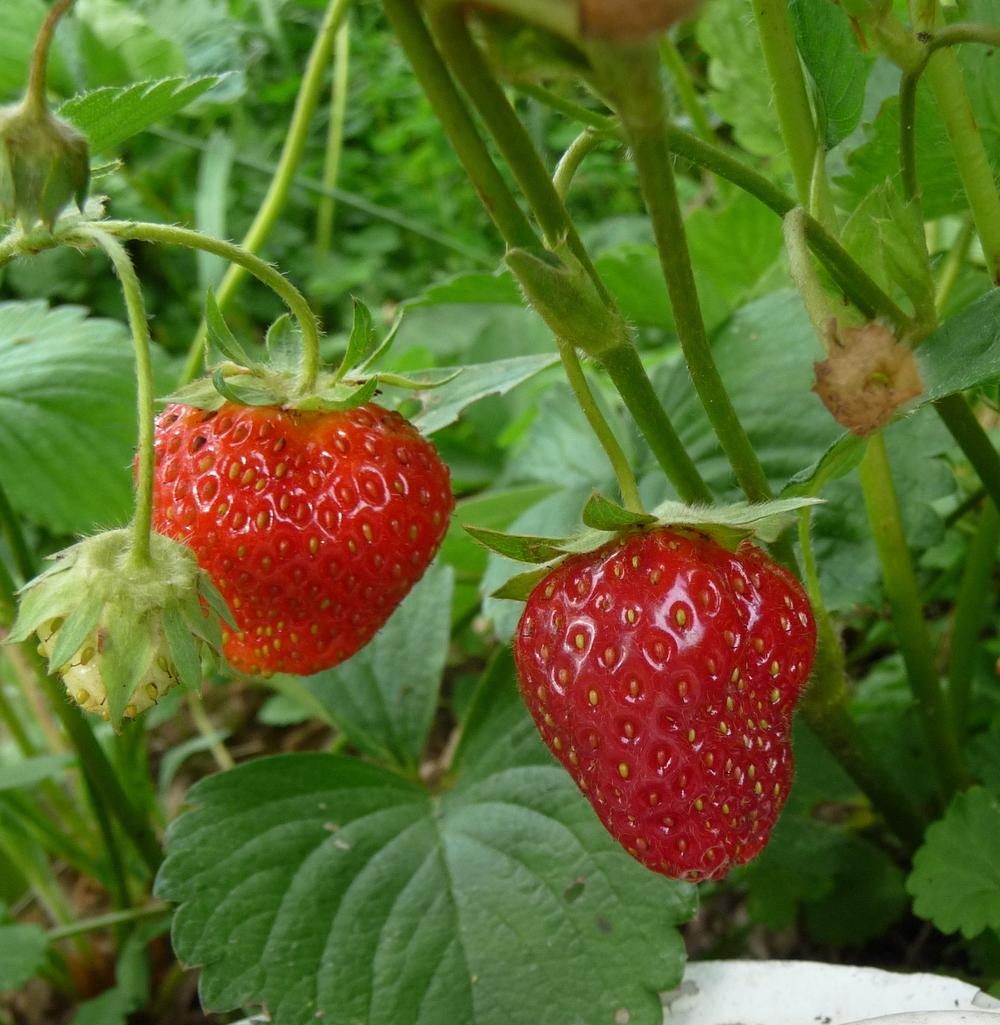ripe_strawberry: (507, 513, 826, 889), (139, 373, 460, 683)
unripe_strawberry: (33, 529, 209, 728)
